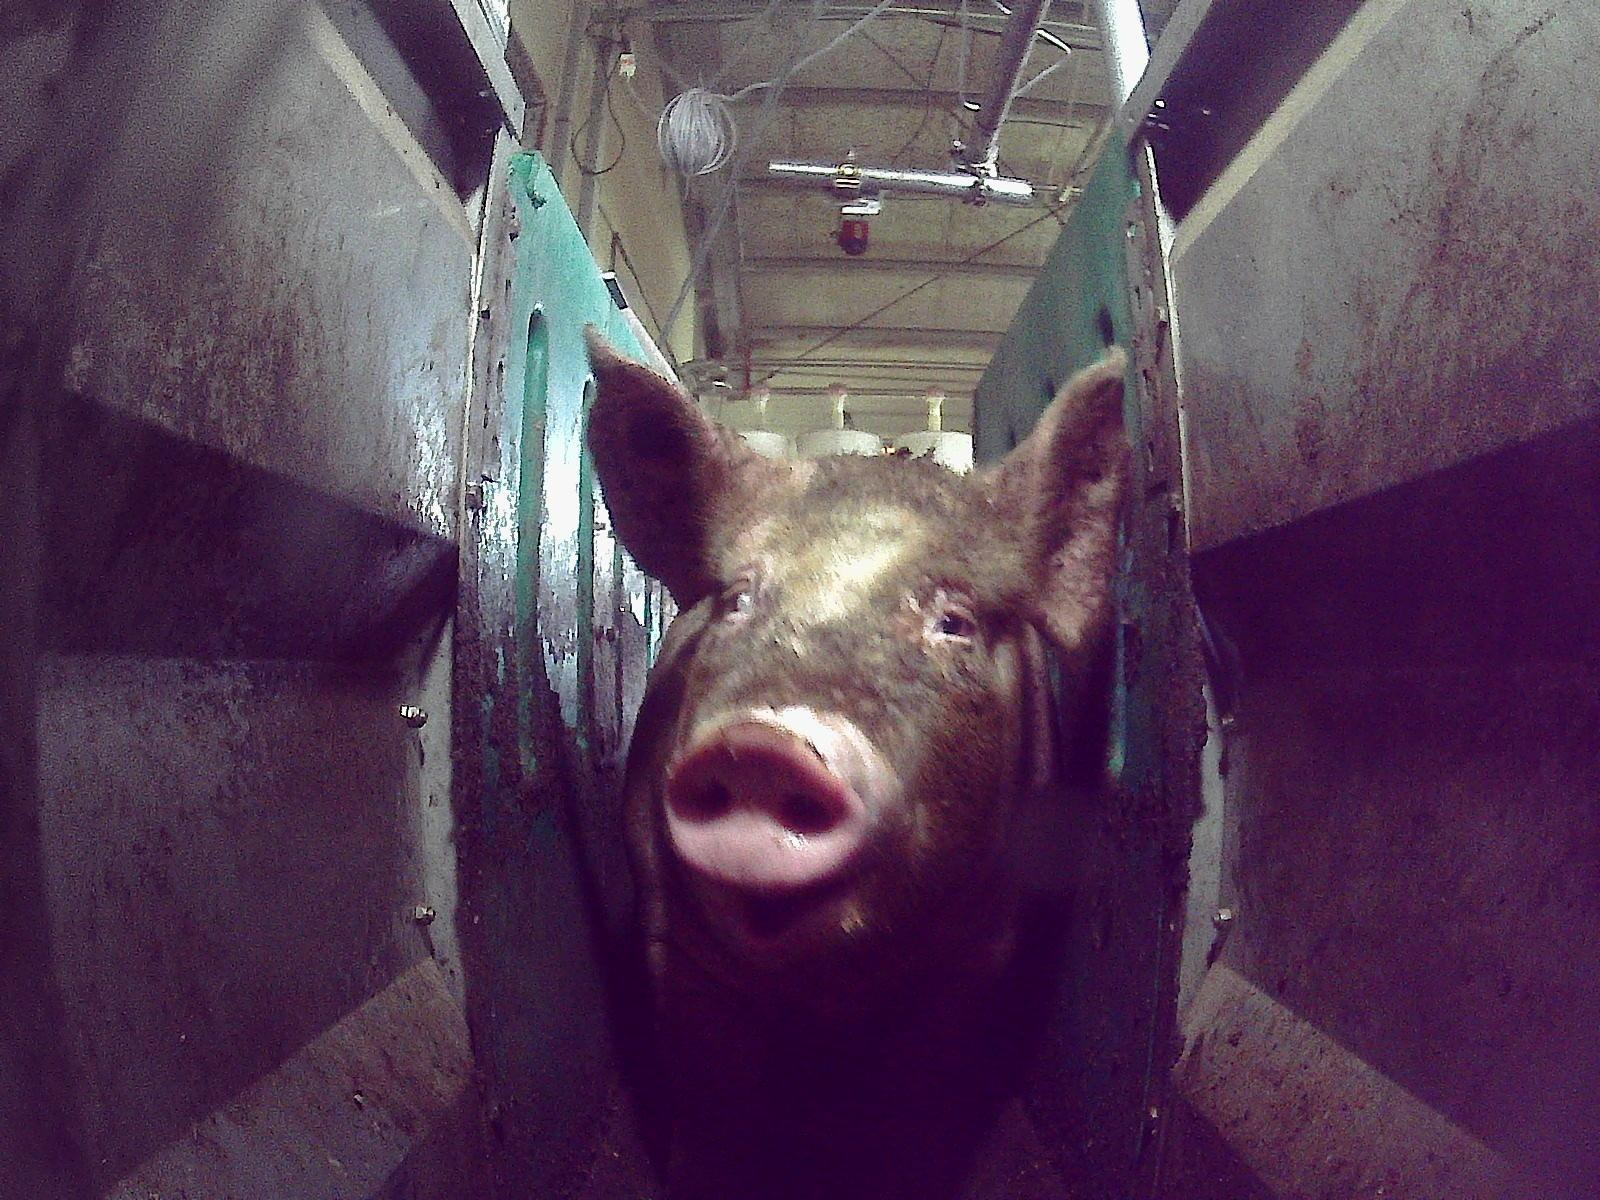Face: (632, 453, 1053, 987)
